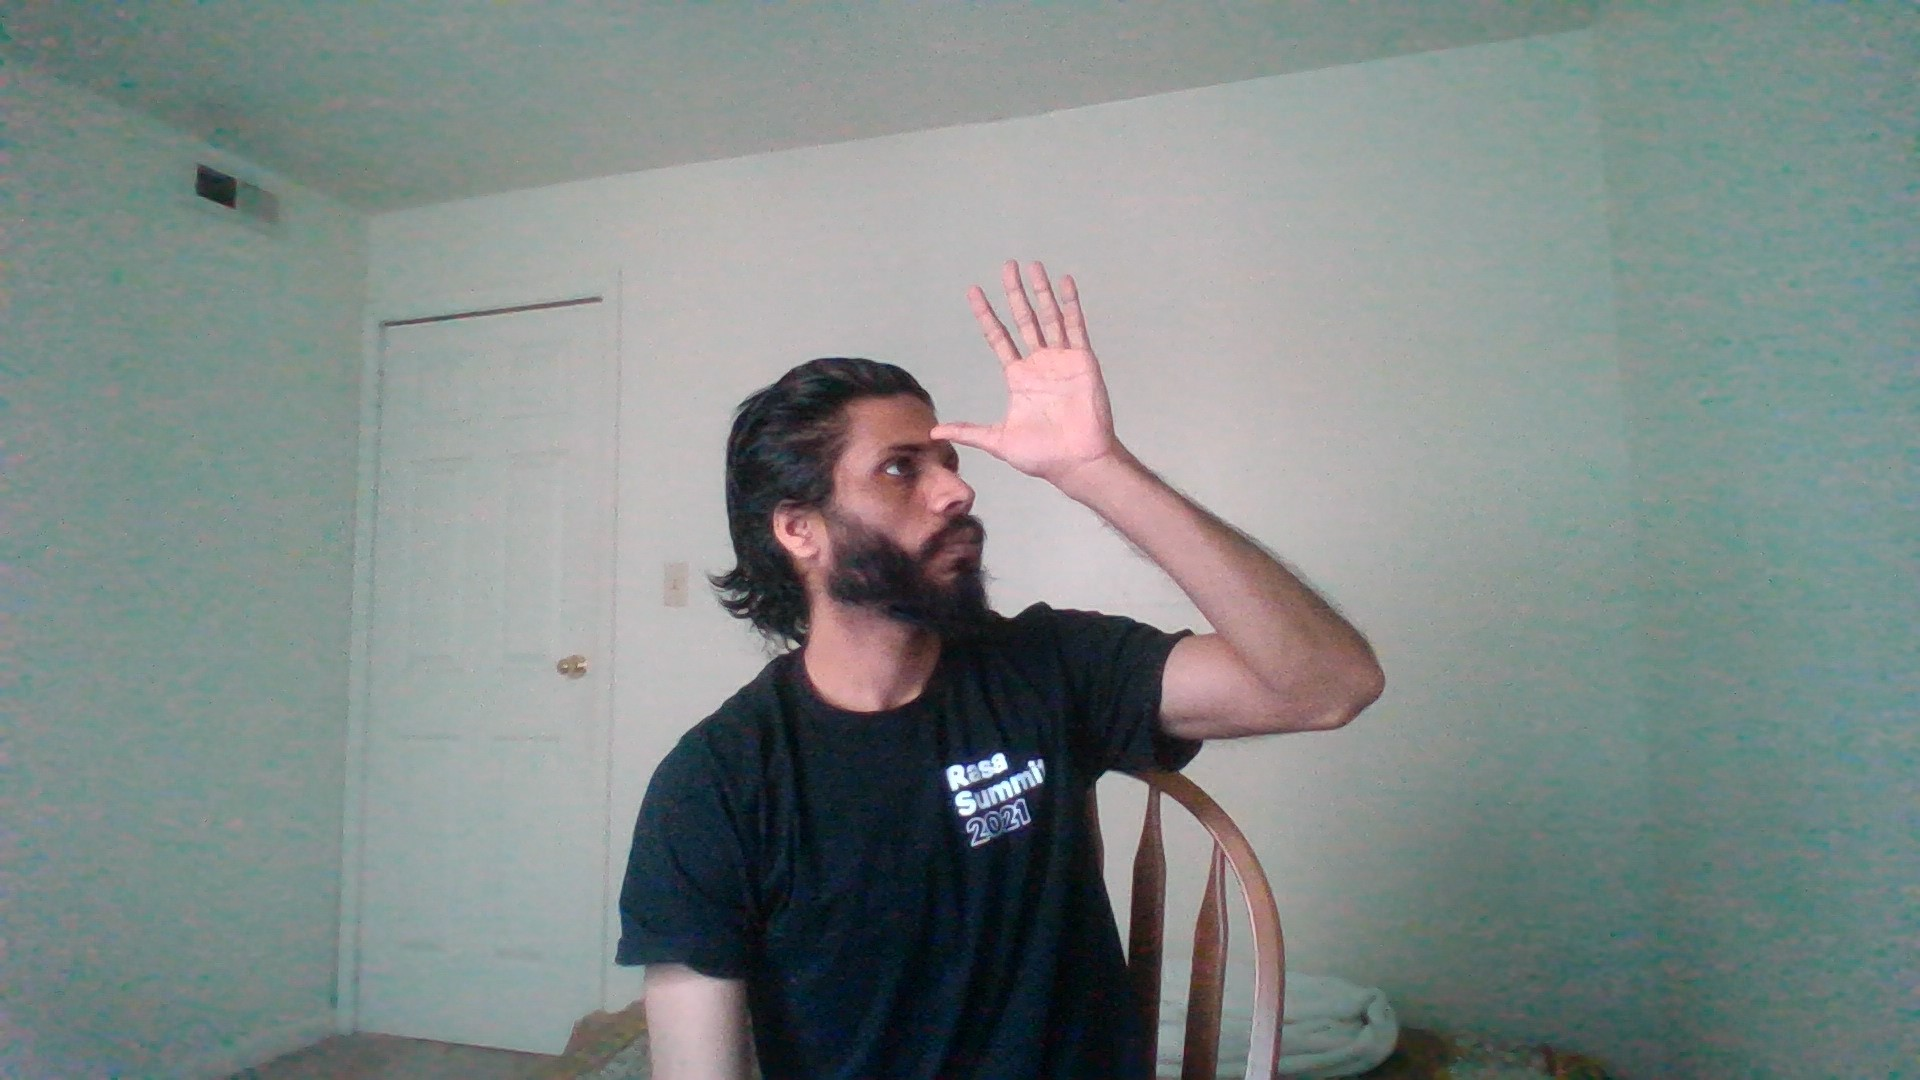Dad: (858, 235, 1205, 545)
